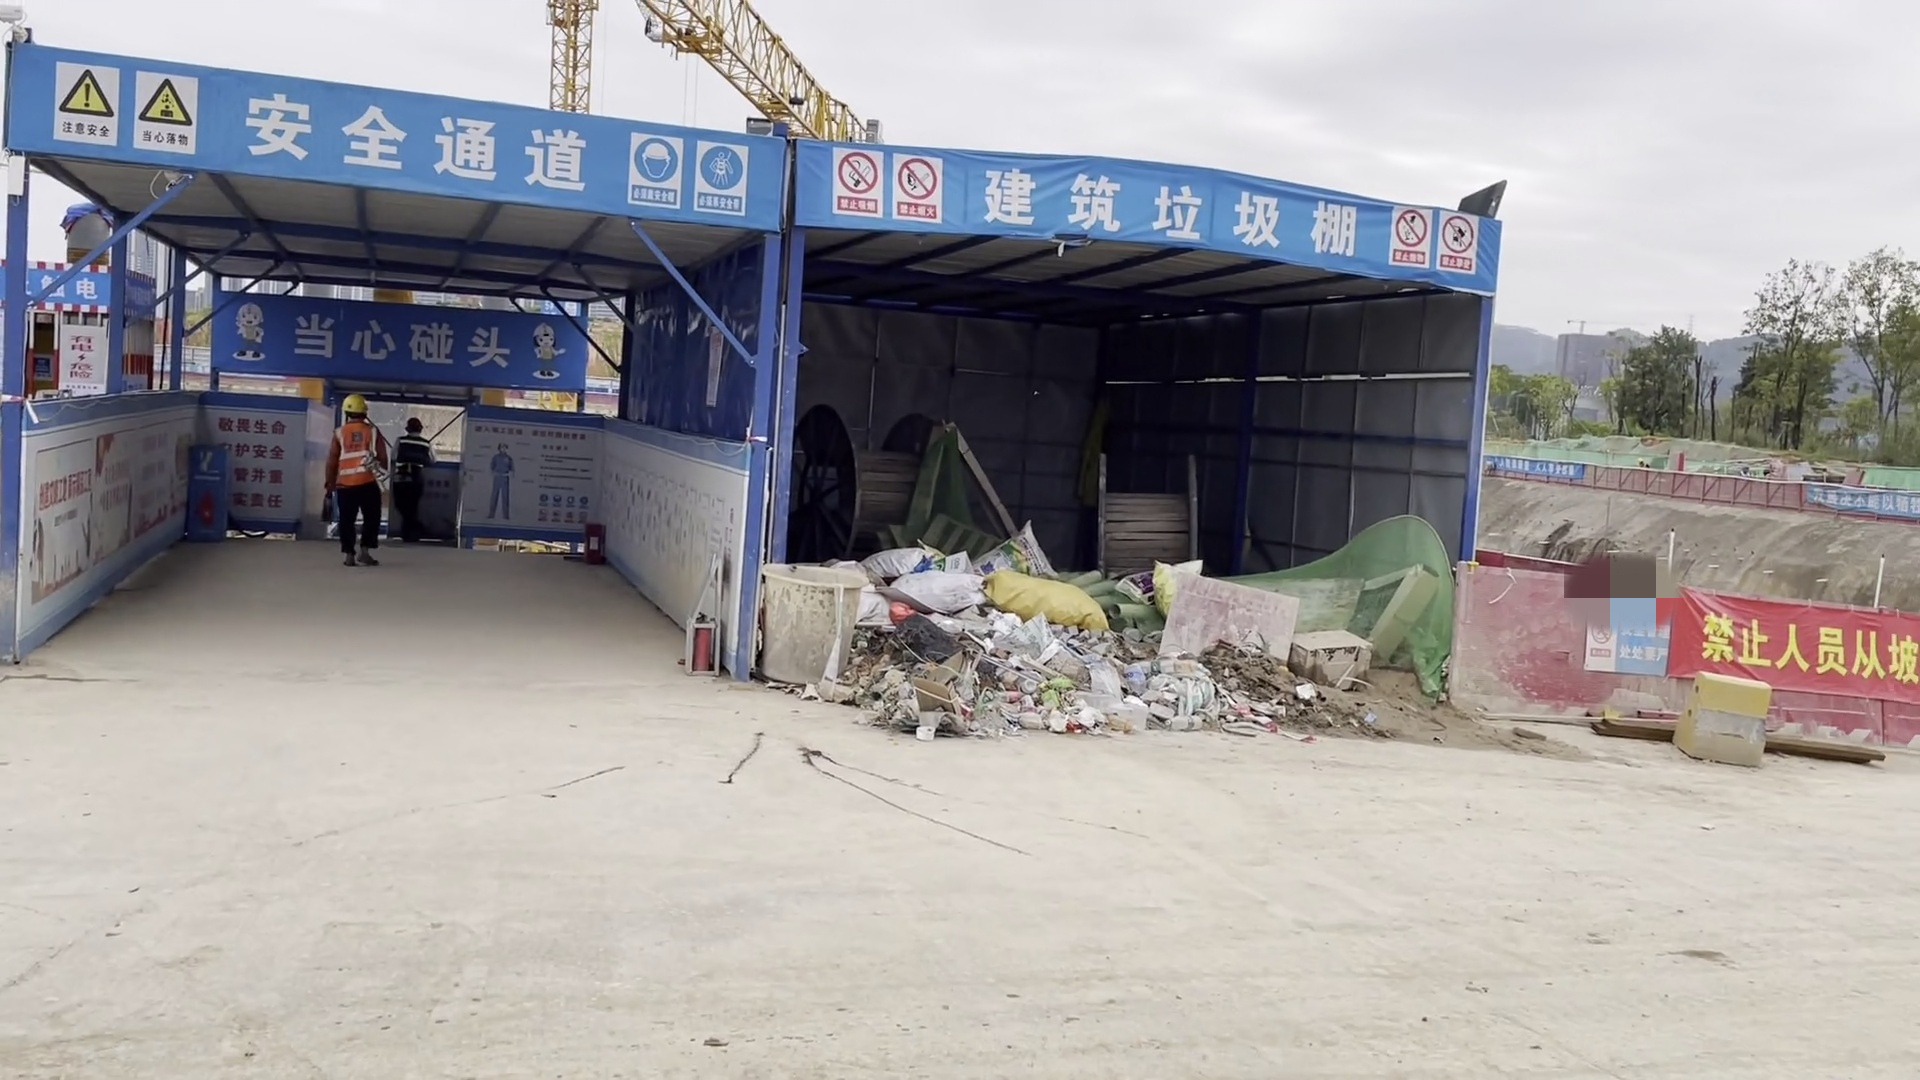helmet: (338, 392, 367, 416)
person: (321, 388, 393, 570), (386, 412, 435, 535)
slogan: (10, 46, 1493, 316), (221, 301, 582, 401), (1669, 594, 1920, 703), (1799, 479, 1920, 536), (1484, 455, 1582, 483)
vest: (323, 414, 382, 494)
